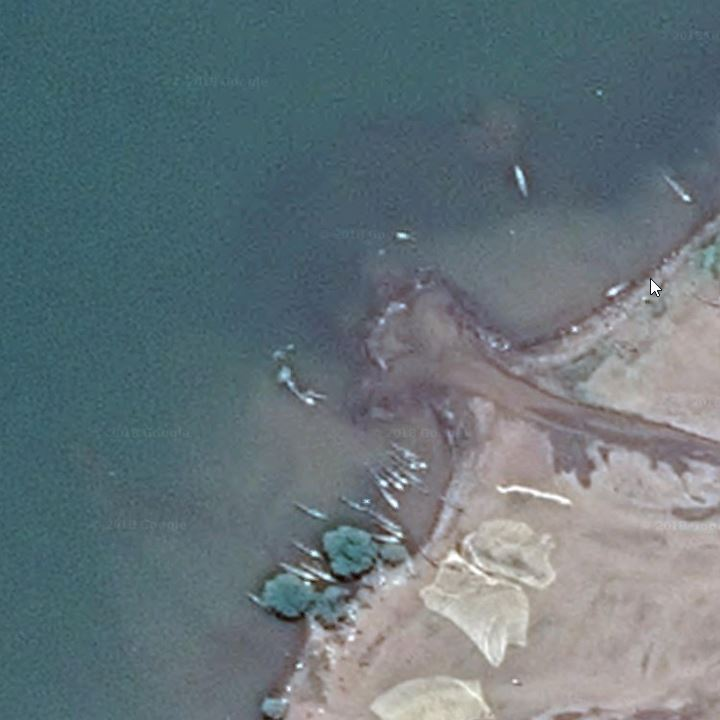boat: (654, 172, 698, 208), (387, 440, 432, 473), (504, 159, 537, 204), (292, 556, 339, 585), (284, 536, 328, 562), (287, 378, 325, 408), (288, 498, 328, 525), (271, 561, 318, 583), (375, 465, 410, 494), (367, 508, 406, 533), (372, 518, 409, 542), (333, 492, 370, 516), (235, 589, 269, 615), (375, 484, 403, 512), (397, 465, 427, 490), (364, 465, 392, 491), (384, 465, 411, 489), (367, 531, 404, 548)
